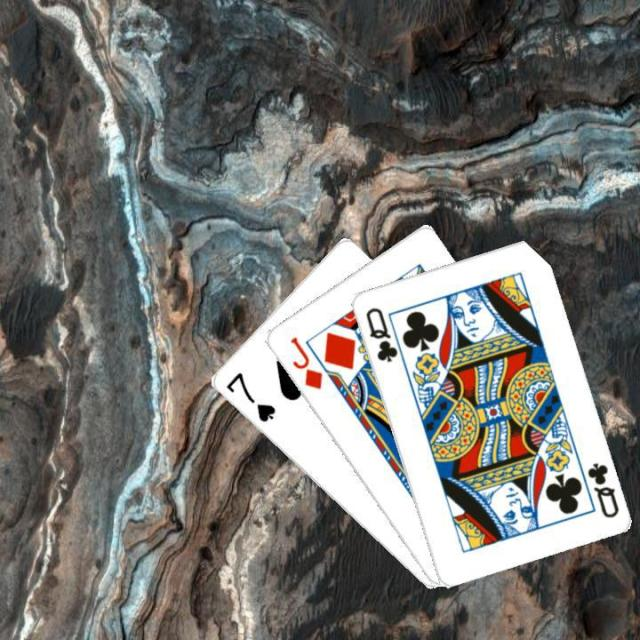7S: (220, 368, 278, 424)
JD: (286, 332, 324, 392)
QC: (361, 303, 399, 365), (582, 459, 620, 520)
